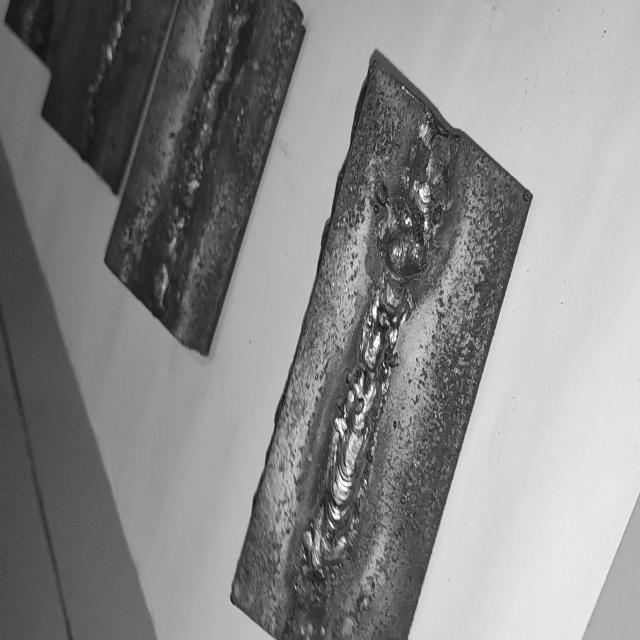Defect: (376, 115, 454, 333), (143, 153, 198, 313), (280, 509, 339, 640)
Welding Line: (271, 96, 467, 640), (136, 0, 257, 329), (74, 0, 132, 162)
Workpiece: (224, 46, 534, 640), (98, 0, 311, 370), (40, 0, 189, 201)
